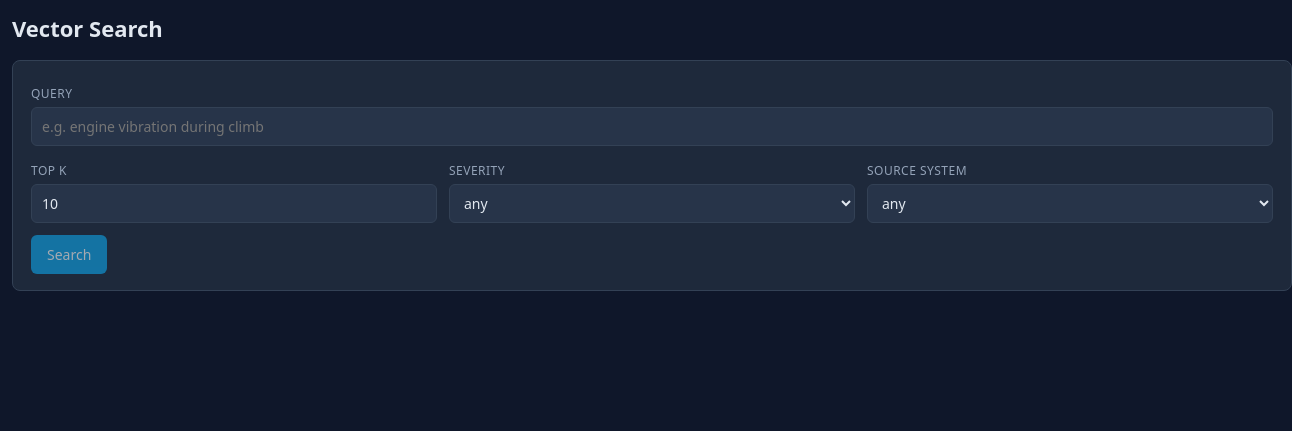
Test case: VectorSearch › posts the query, top_k and filters and renders the resulting hits
Type "engine vibration" into the field with placeholder "e.g. engine vibration during climb".
click(652, 126); type("engine vibration")  # box [31,107,1273,146]
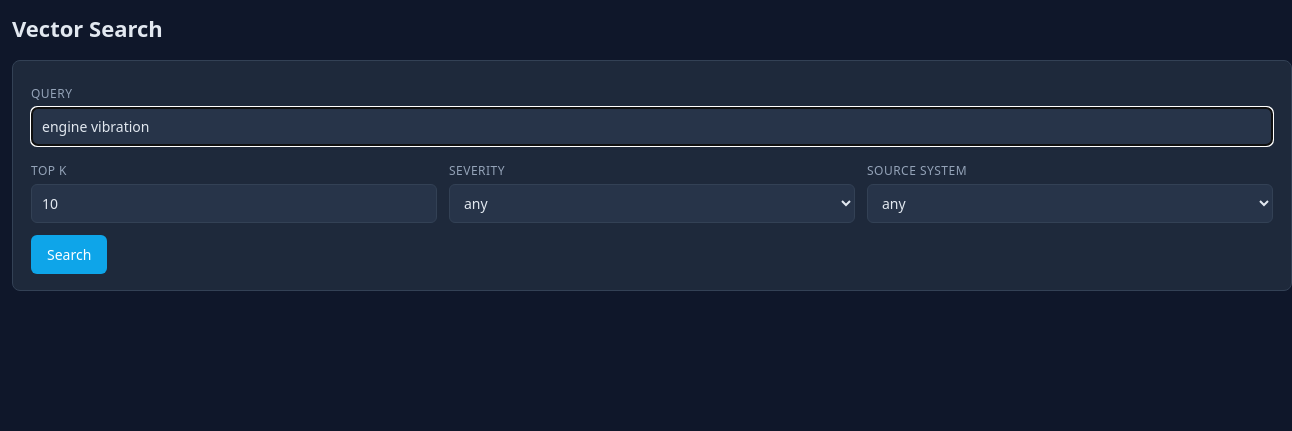
Click the button "Search".
click(69, 254)  # box [31,235,107,274]
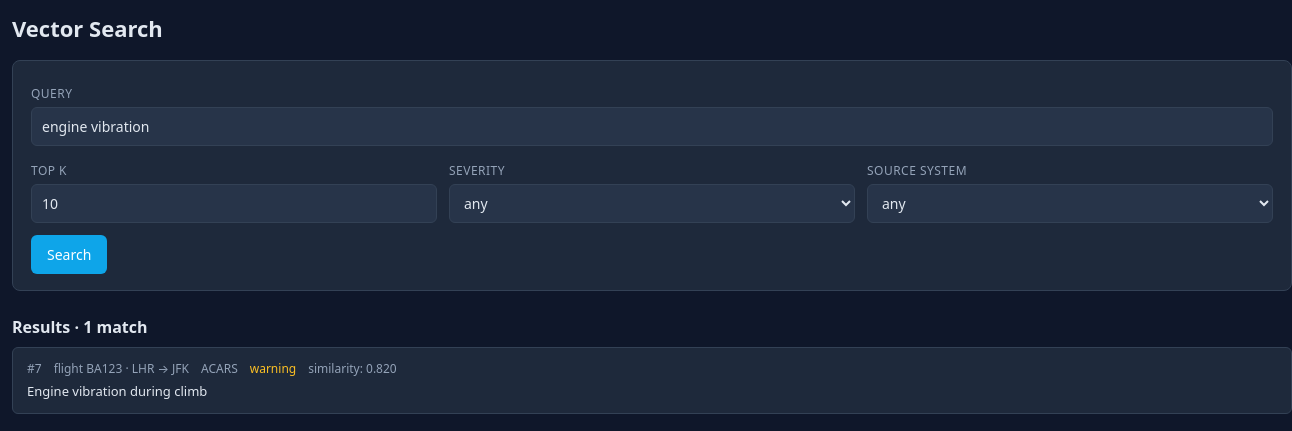
expect the text "Engine vibration during climb" is shown: met, box [27,382,207,400]
expect the text "#7" is shown: met, box [27,360,42,378]
expect the text "similarity: 0.820" is shown: met, box [308,360,397,378]
